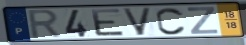4: (64, 8, 90, 39)
C: (154, 6, 187, 36)
E: (89, 8, 127, 37)
R: (27, 8, 64, 40)
V: (121, 7, 154, 37)
Z: (186, 6, 219, 35)
